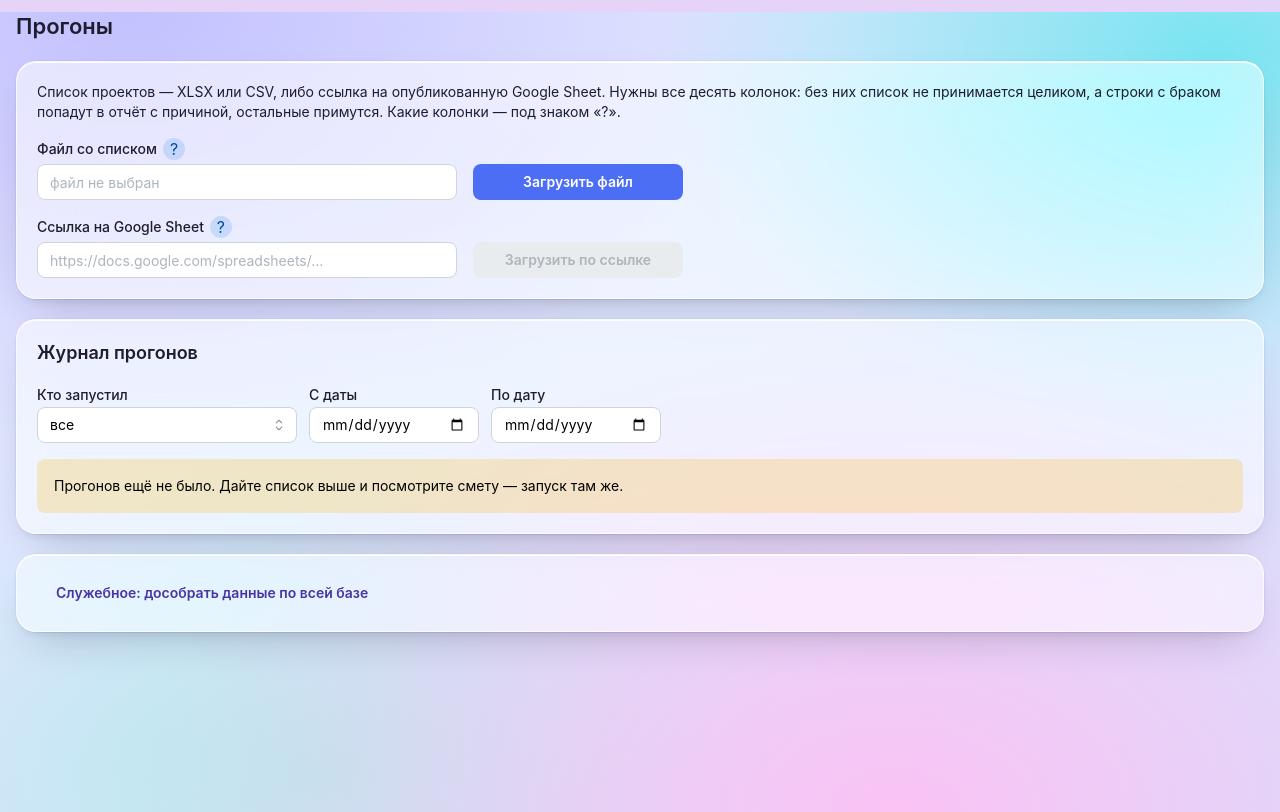
Scenario: служебное по всей базе — свёрнуто под журналом (Z61) › M125: «Смета и запуск» нет; «Дособрать кандидатов» — только в раскрытом блоке
This screenshot has width=1280, height=812.
Expected: the button "Дособрать кандидатов" is not shown
Click the button "Служебное: дособрать данные по всей базе" at (212, 593), box [37,575,387,611]
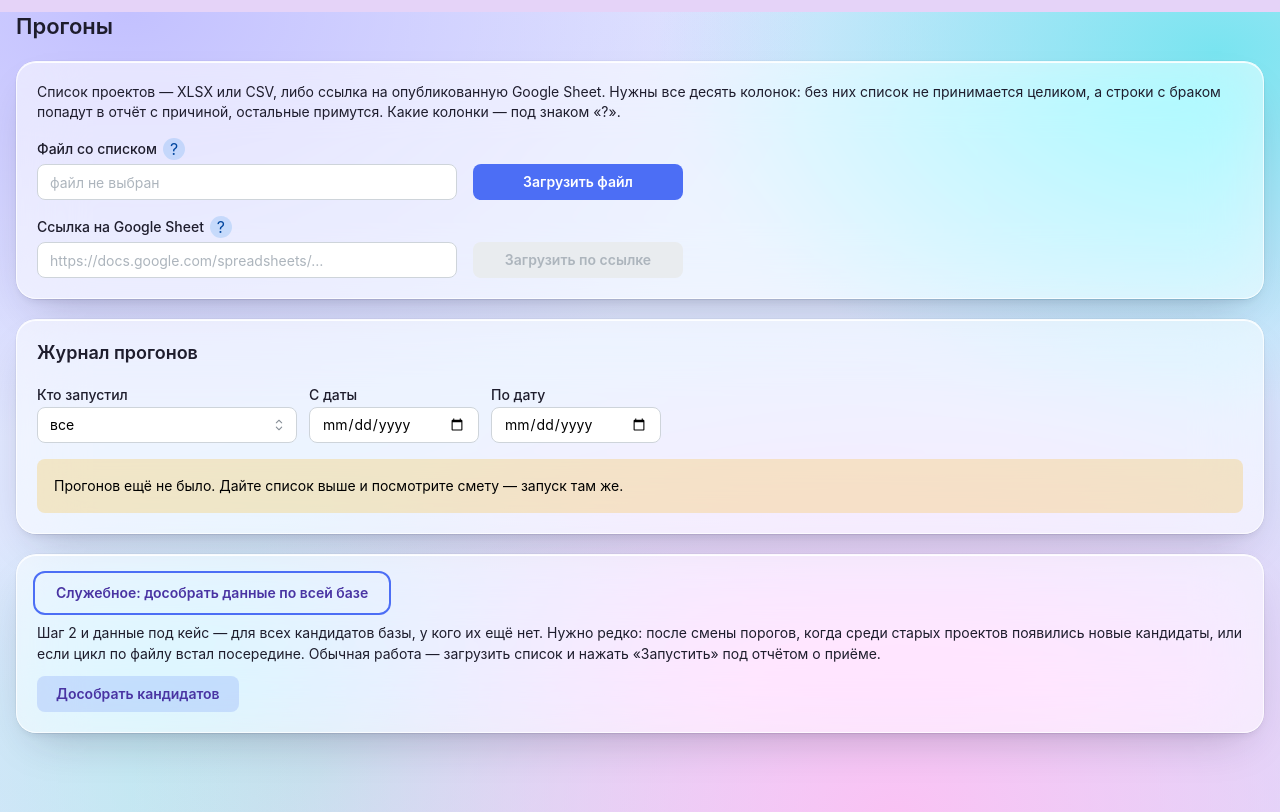
Now the button "Дособрать кандидатов" is shown, box [37,676,239,712]
Now the text "нажать «Запустить»" is shown, box [37,624,1242,662]
